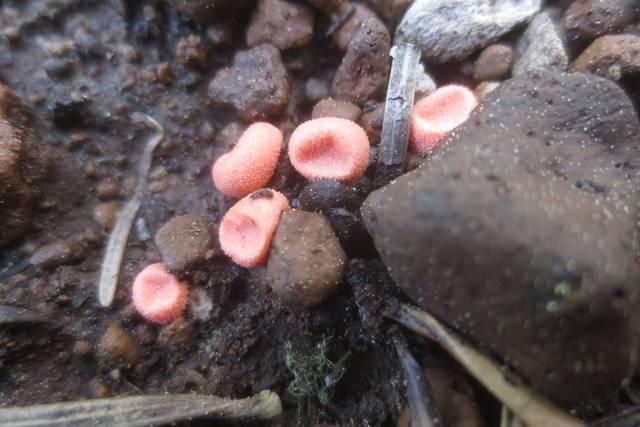poisonous_mushroom: (402, 74, 480, 155), (217, 186, 290, 268), (286, 115, 371, 183), (210, 120, 283, 197), (130, 261, 188, 324)
